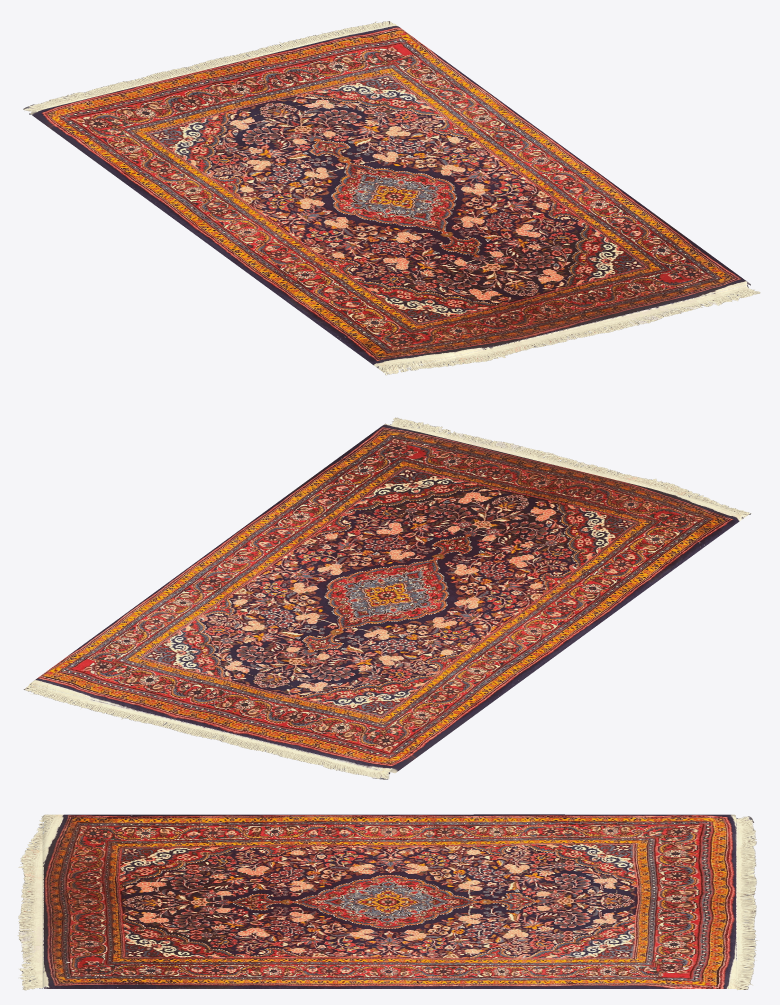
File: afshar-2015-070.glb
The picture shows the model from 3 angles, top to bottom: view 1: azimuth 30°, elevation 25°; view 2: azimuth 150°, elevation 25°; view 3: azimuth 270°, elevation 25°; orthographic projection. The views are drawn at different scales.
Visible parts, largest first — view 1: rug; view 2: rug; view 3: rug.
Part boxes in pixels (<box>): rug: <box>23,21,760,375</box>; rug: <box>23,417,751,779</box>; rug: <box>17,814,759,990</box>.
Bounding box in the file's own units: 1.1 × 0.0122 × 2.01.
10 materials, 9 textured.
